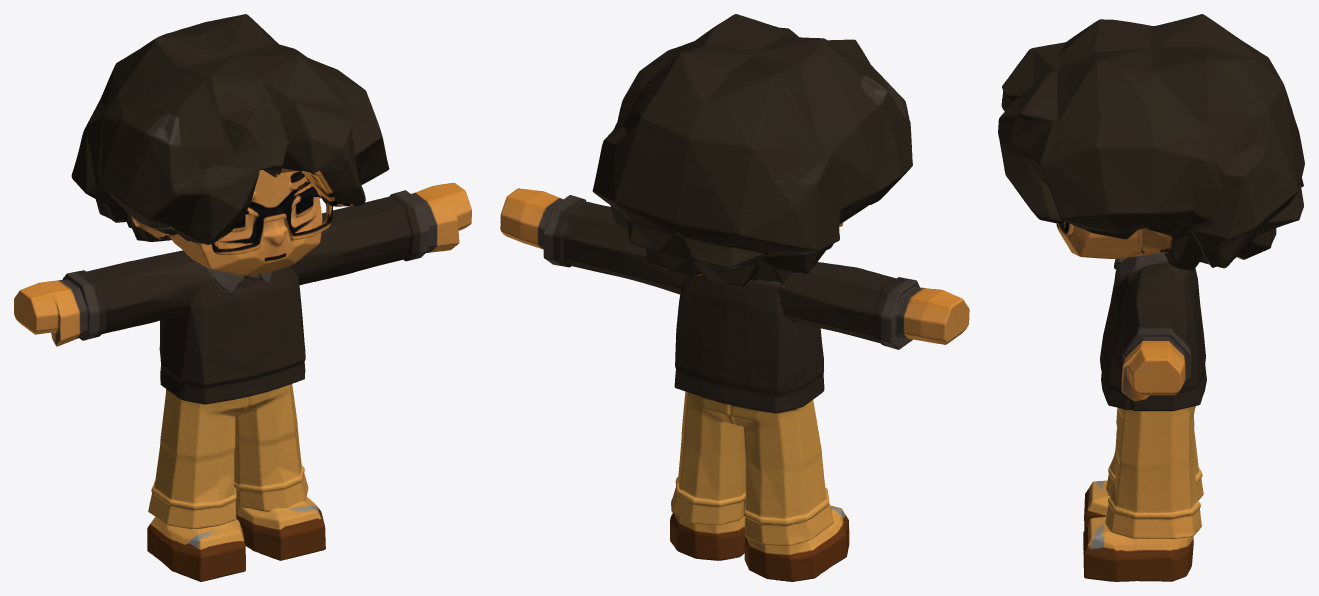
File: pessonagem.glb
The picture shows the model from 3 angles, left to right: view 1: azimuth 30°, elevation 25°; view 2: azimuth 150°, elevation 25°; view 3: azimuth 270°, elevation 25°; orthographic projection. The views are drawn at different scales.
Parts seen in each view (by area): view 1: tripo_node_2a91f2fa-e295-4cf4-9d48-317f650538f8; view 2: tripo_node_2a91f2fa-e295-4cf4-9d48-317f650538f8; view 3: tripo_node_2a91f2fa-e295-4cf4-9d48-317f650538f8.
Boxes of the visible parts, bbox=[...] form: tripo_node_2a91f2fa-e295-4cf4-9d48-317f650538f8: bbox=[14, 14, 471, 581]; tripo_node_2a91f2fa-e295-4cf4-9d48-317f650538f8: bbox=[500, 14, 969, 581]; tripo_node_2a91f2fa-e295-4cf4-9d48-317f650538f8: bbox=[998, 14, 1304, 581].
Bounding box in the file's own units: 0.9126 × 1 × 0.5431.
1 material, 1 textured.
